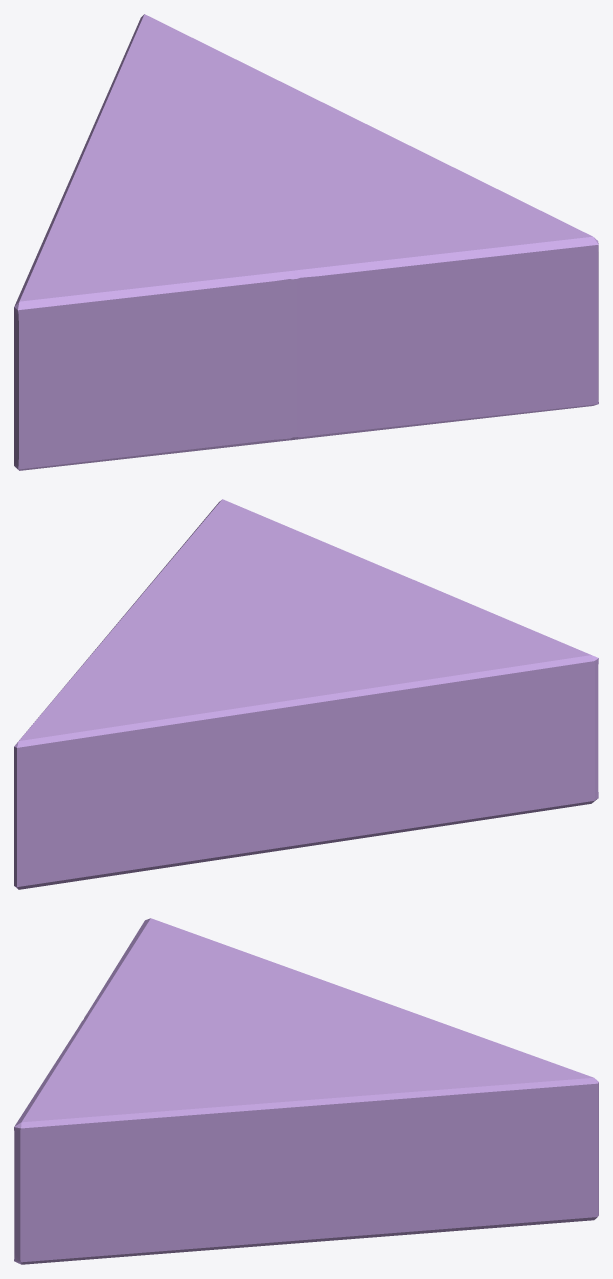
File: Triangulo_05.fbx
3 views of the same model, one above another, from view 1: azimuth 30°, elevation 25°; view 2: azimuth 150°, elevation 25°; view 3: azimuth 270°, elevation 25° (orthographic). The views are drawn at different scales.
Visible parts, largest first — view 1: polySurface51; view 2: polySurface51; view 3: polySurface51.
Boxes of the visible parts, bbox=[...] form: polySurface51: bbox=[14, 14, 598, 470]; polySurface51: bbox=[14, 499, 598, 889]; polySurface51: bbox=[14, 918, 598, 1264].
Size of the model in its own units: 3.08 by 0.9846 by 3.66.
